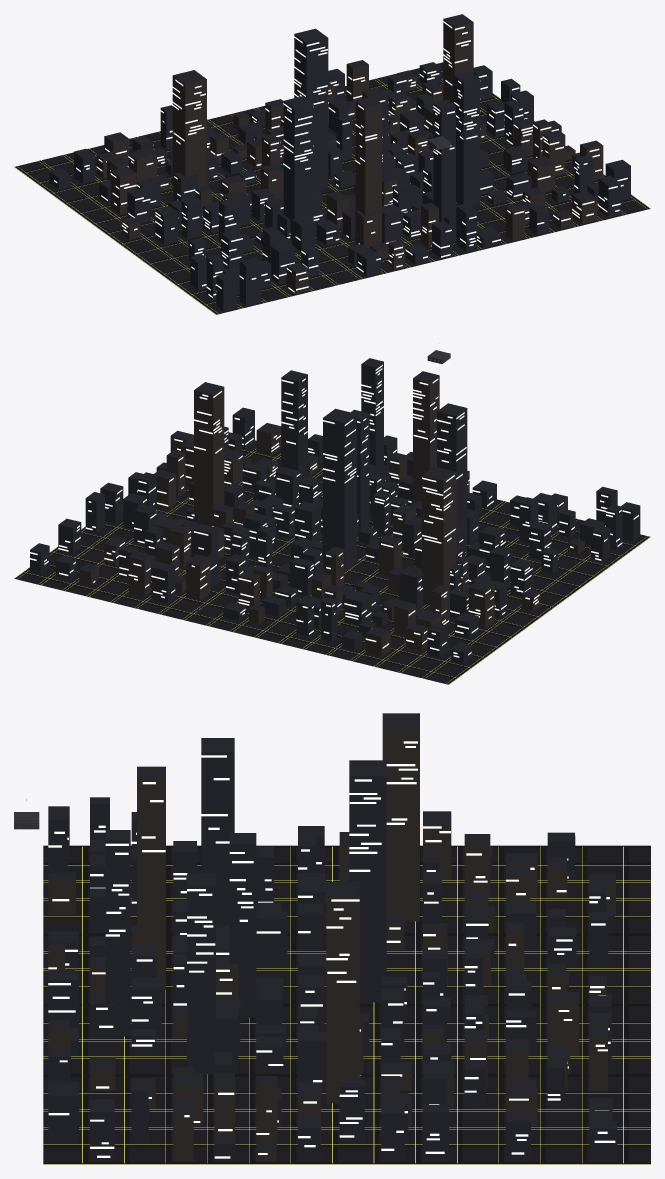
File: DeathsGambitMaps_Meeting.fbx
3 views of the same model, one above another, from view 1: azimuth 30°, elevation 25°; view 2: azimuth 150°, elevation 25°; view 3: azimuth 270°, elevation 25° (orthographic). The views are drawn at different scales.
Visible parts, largest first — view 1: Map_Meeting_CityFacade_3, Map_Meeting_CityFacade_1, Map_Meeting_CityGround_1, Map_Meeting_CityFacadeWarm_3, Map_Meeting_CityFacadeWarm_1, Map_Meeting_CityRoof_1, Map_Meeting_CityRoof_3, Map_Meeting_CityRoad_2, Map_Meeting_CityFacade_4, Map_Meeting_CityFacadeWarm_4, Map_Meeting_CityRoof_4, Map_Meeting_CityFacadeWarm_2 (+9 smaller); view 2: Map_Meeting_CityGround_1, Map_Meeting_CityFacade_3, Map_Meeting_CityFacade_1, Map_Meeting_CityFacadeWarm_3, Map_Meeting_CityFacadeWarm_1, Map_Meeting_CityFacade_2, Map_Meeting_CityRoof_1, Map_Meeting_CityRoof_3, Map_Meeting_CityFacade_4, Map_Meeting_CityFacadeWarm_2, Map_Meeting_CityRoad_2, Map_Meeting_CityFacadeWarm_4 (+12 smaller); view 3: Map_Meeting_CityGround_1, Map_Meeting_CityFacade_1, Map_Meeting_CityFacade_3, Map_Meeting_CityRoad_2, Map_Meeting_CityFacadeWarm_3, Map_Meeting_CityFacadeWarm_1, Map_Meeting_CityRoof_1, Map_Meeting_CityRoof_3, Map_Meeting_CityRoad_3, Map_Meeting_CityRoad_1, Map_Meeting_CityFacade_2, Map_Meeting_CityRoof_2 (+11 smaller).
Boxes of the visible parts, x1=… form: Map_Meeting_CityFacade_3: x1=127, y1=34, x2=428, y2=311; Map_Meeting_CityFacade_1: x1=328, y1=75, x2=630, y2=258; Map_Meeting_CityGround_1: x1=17, y1=62, x2=647, y2=313; Map_Meeting_CityFacadeWarm_3: x1=110, y1=75, x2=404, y2=293; Map_Meeting_CityFacadeWarm_1: x1=353, y1=19, x2=603, y2=247; Map_Meeting_CityRoof_1: x1=328, y1=14, x2=630, y2=238; Map_Meeting_CityRoof_3: x1=111, y1=28, x2=428, y2=280; Map_Meeting_CityRoad_2: x1=14, y1=113, x2=635, y2=314; Map_Meeting_CityFacade_4: x1=49, y1=108, x2=283, y2=204; Map_Meeting_CityFacadeWarm_4: x1=96, y1=114, x2=261, y2=191; Map_Meeting_CityRoof_4: x1=50, y1=105, x2=283, y2=188; Map_Meeting_CityFacadeWarm_2: x1=265, y1=64, x2=443, y2=146; Map_Meeting_CityGround_1: x1=17, y1=440, x2=647, y2=683; Map_Meeting_CityFacade_3: x1=314, y1=408, x2=640, y2=617; Map_Meeting_CityFacade_1: x1=96, y1=362, x2=412, y2=568; Map_Meeting_CityFacadeWarm_3: x1=336, y1=375, x2=584, y2=628; Map_Meeting_CityFacadeWarm_1: x1=156, y1=387, x2=407, y2=558; Map_Meeting_CityFacade_2: x1=30, y1=498, x2=289, y2=620; Map_Meeting_CityRoof_1: x1=86, y1=358, x2=412, y2=572; Map_Meeting_CityRoof_3: x1=302, y1=371, x2=639, y2=597; Map_Meeting_CityFacade_4: x1=261, y1=553, x2=478, y2=663; Map_Meeting_CityFacadeWarm_2: x1=79, y1=525, x2=272, y2=608; Map_Meeting_CityRoad_2: x1=105, y1=450, x2=650, y2=684; Map_Meeting_CityFacadeWarm_4: x1=249, y1=552, x2=485, y2=656; Map_Meeting_CityGround_1: x1=43, y1=848, x2=650, y2=1161; Map_Meeting_CityFacade_1: x1=48, y1=840, x2=451, y2=1161; Map_Meeting_CityFacade_3: x1=48, y1=752, x2=446, y2=1002; Map_Meeting_CityRoad_2: x1=43, y1=845, x2=650, y2=1162; Map_Meeting_CityFacadeWarm_3: x1=48, y1=729, x2=451, y2=990; Map_Meeting_CityFacadeWarm_1: x1=48, y1=896, x2=454, y2=1161; Map_Meeting_CityRoof_1: x1=48, y1=830, x2=454, y2=1149; Map_Meeting_CityRoof_3: x1=48, y1=713, x2=451, y2=965; Map_Meeting_CityRoad_3: x1=456, y1=846, x2=628, y2=1162; Map_Meeting_CityRoad_1: x1=43, y1=1021, x2=650, y2=1164; Map_Meeting_CityFacade_2: x1=464, y1=990, x2=616, y2=1161; Map_Meeting_CityRoof_2: x1=464, y1=963, x2=616, y2=1128.
Bounding box in the file's own units: 1814 × 600 × 1530.
Materials: 33 (20 with a texture image).
